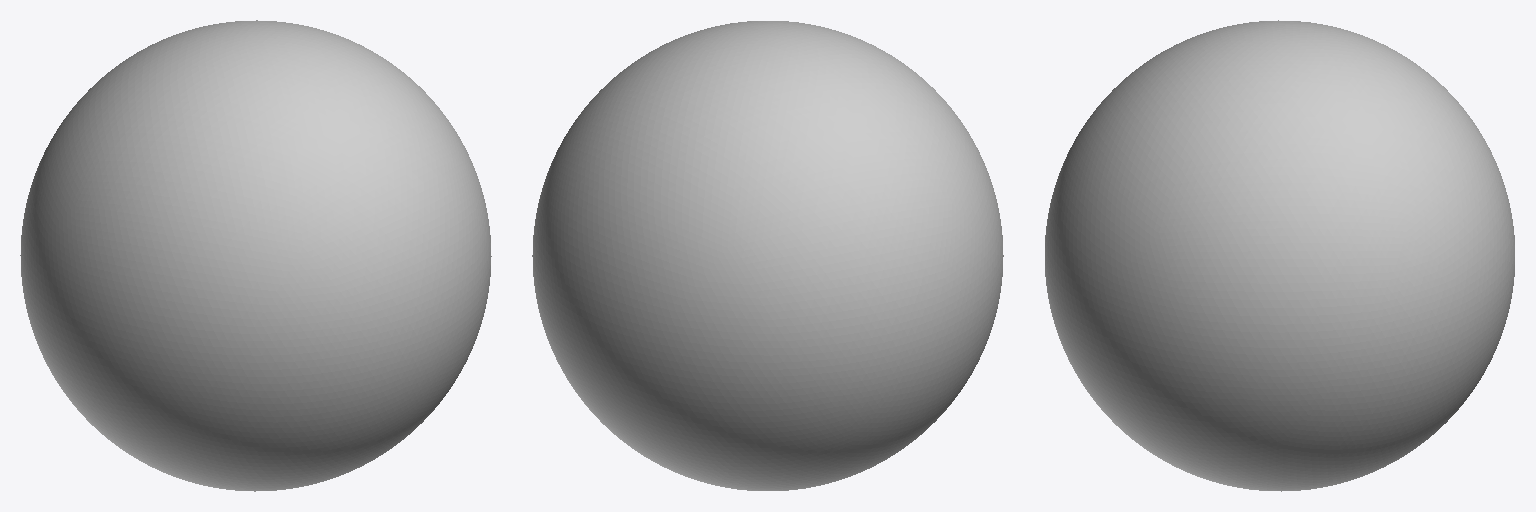
File: Tierra.obj
3 renders of one model, left to right at view 1: azimuth 30°, elevation 25°; view 2: azimuth 150°, elevation 25°; view 3: azimuth 270°, elevation 25°, orthographic.
Parts seen in each view (by area): view 1: Earth; view 2: Earth; view 3: Earth.
Part boxes in pixels (bbox=[...]): Earth: bbox=[20, 20, 491, 491]; Earth: bbox=[532, 21, 1003, 490]; Earth: bbox=[1045, 20, 1514, 491].
Size of the model in its own units: 2.02 by 2.02 by 2.02.